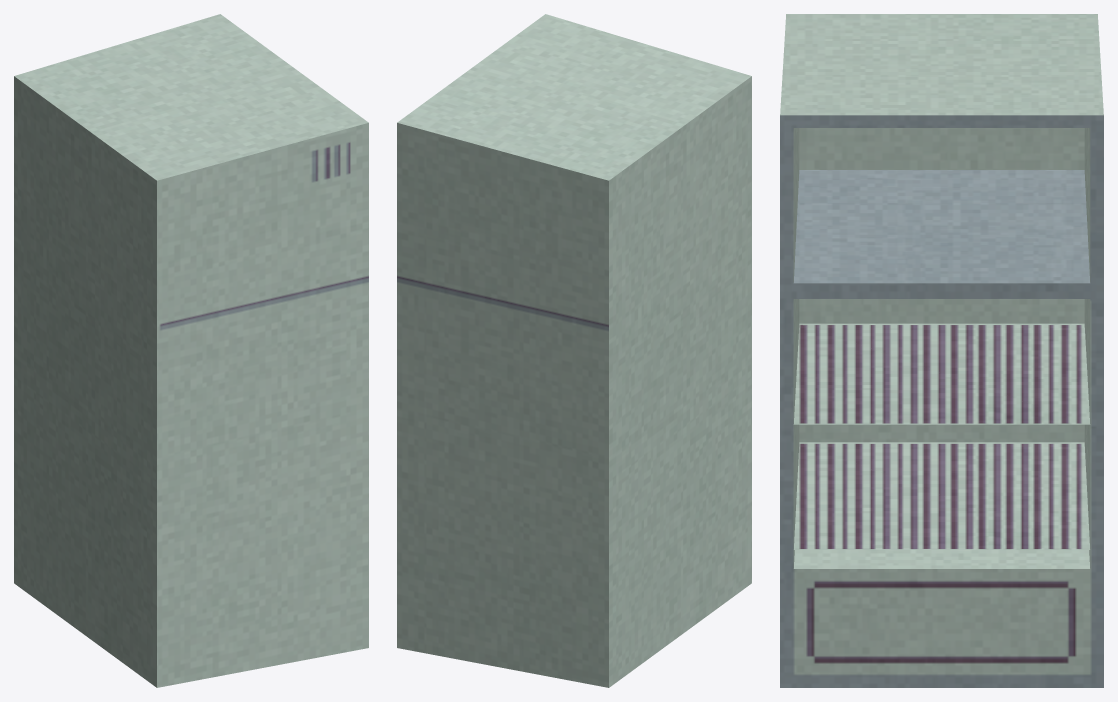
The model's file is Fridge_Base.fbx.
3 renders of one model, left to right at view 1: azimuth 30°, elevation 25°; view 2: azimuth 150°, elevation 25°; view 3: azimuth 270°, elevation 25°, orthographic. The views are drawn at different scales.
Visible parts, largest first — view 1: Fridge_Base; view 2: Fridge_Base; view 3: Fridge_Base.
Part boxes in pixels (<box>): Fridge_Base: <box>14,14,368,687</box>; Fridge_Base: <box>397,14,751,687</box>; Fridge_Base: <box>780,14,1103,687</box>.
Size of the model in its own units: 266 by 638 by 327.
